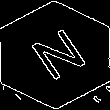N_SE: (20, 23, 90, 87)
